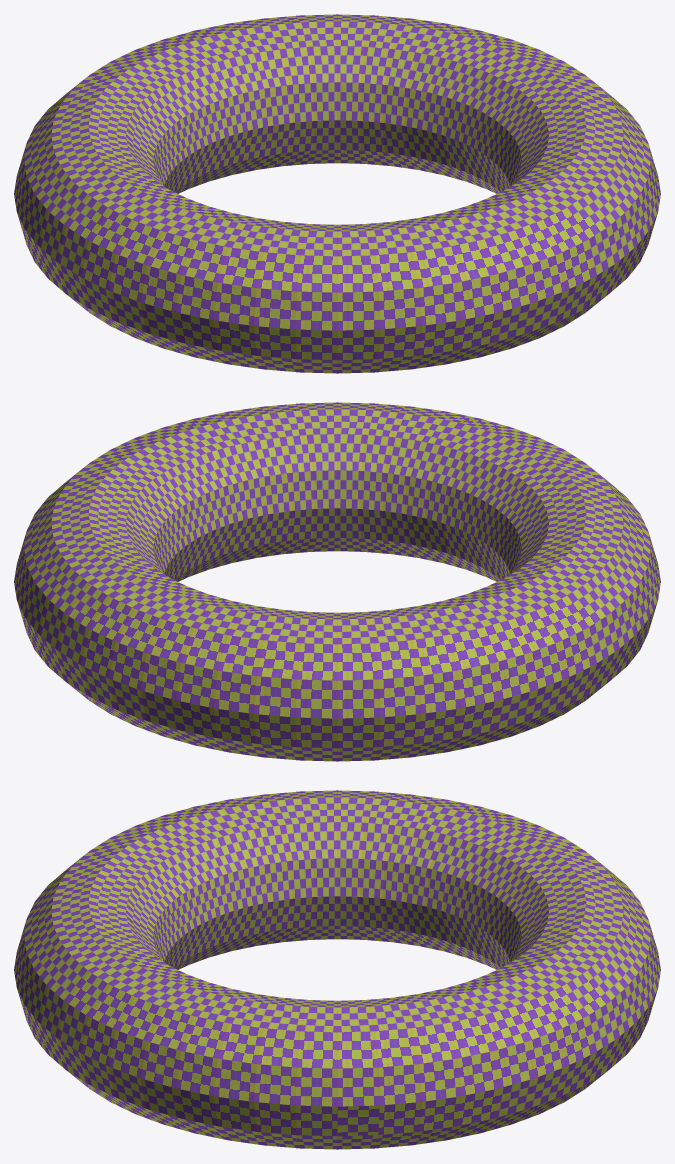
The model's file is torusuv.obj.
The picture shows the model from 3 angles, top to bottom: view 1: azimuth 30°, elevation 25°; view 2: azimuth 150°, elevation 25°; view 3: azimuth 270°, elevation 25°; orthographic projection.
Visible parts, largest first — view 1: Torus.001; view 2: Torus.001; view 3: Torus.001.
Part boxes in pixels (box(x1,y1,x2,y2)): Torus.001: box(14, 14, 660, 373); Torus.001: box(14, 402, 660, 761); Torus.001: box(14, 790, 660, 1149).
Size of the model in its own units: 2.6 by 0.6 by 2.6.
1 material, 1 textured.
